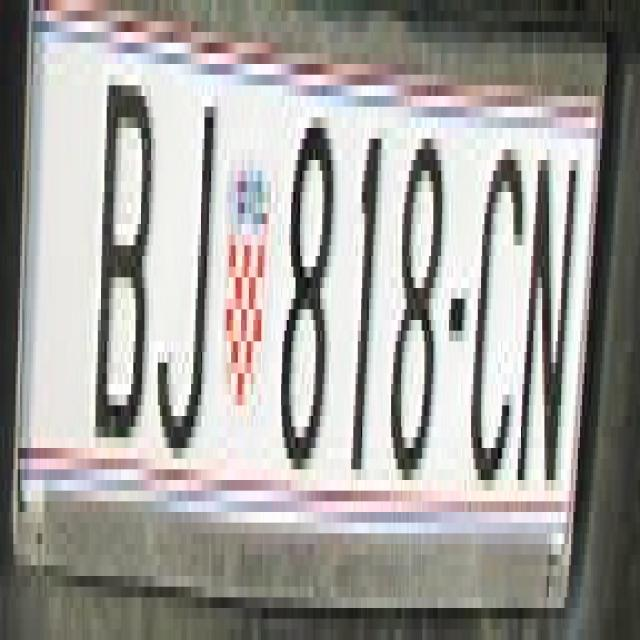1: (344, 117, 376, 480)
8: (276, 96, 336, 469), (391, 117, 440, 480)
B: (89, 64, 149, 437)
C: (467, 107, 518, 490)
N: (522, 138, 574, 490)
